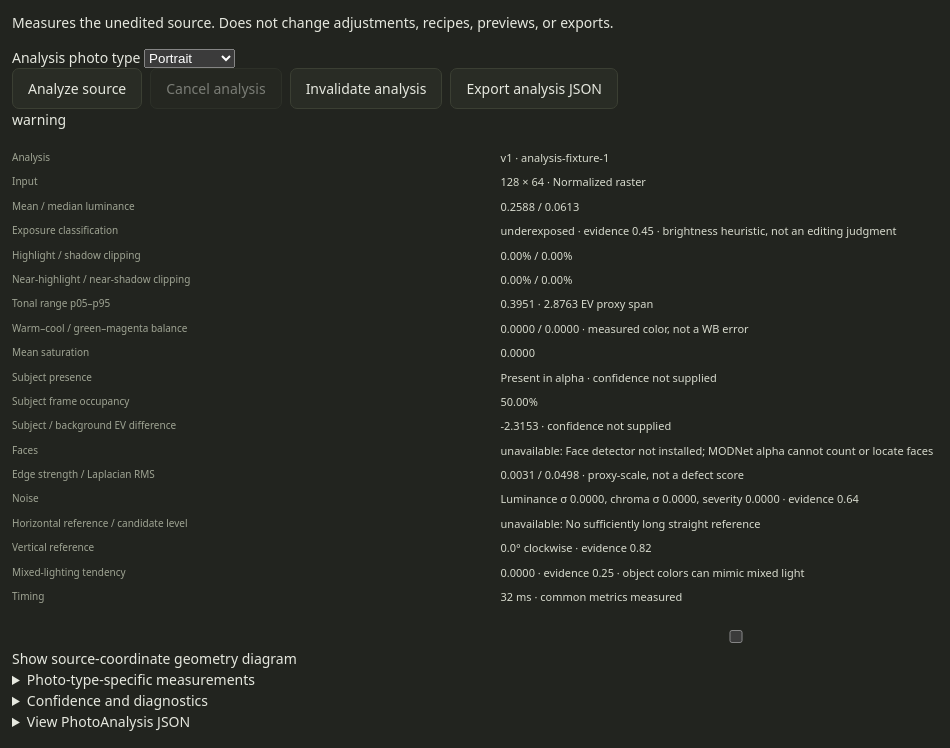
Scenario: invalidates disposable analyses and allows rerun
Click the button "Invalidate analysis".
click(366, 88)  # box left=290, top=68, right=442, bottom=109
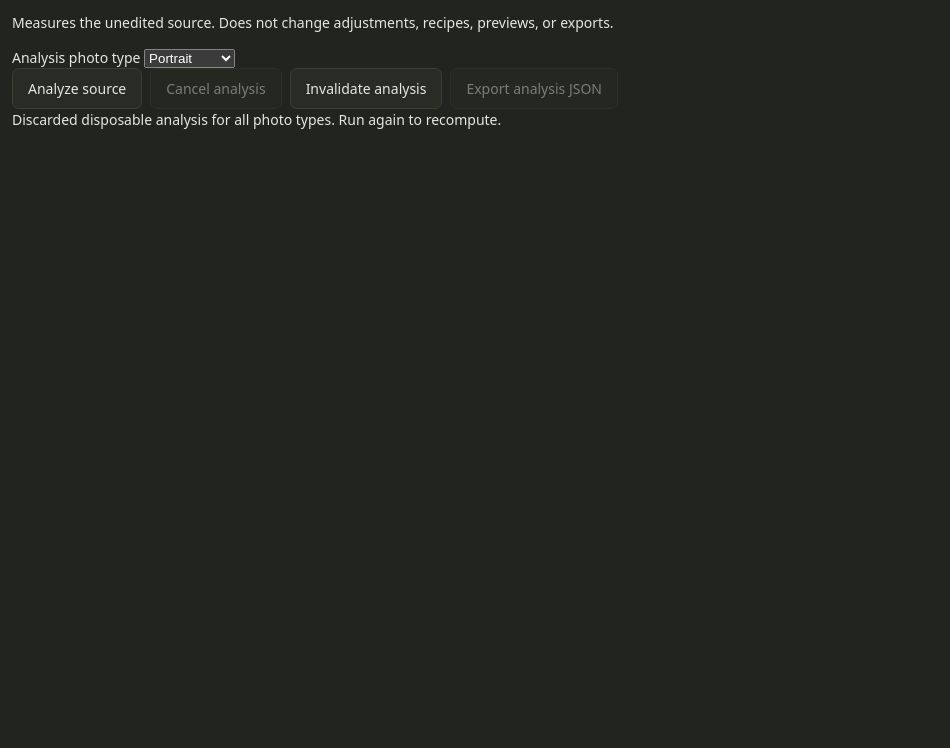
Expected: the button "Analyze source" is enabled, left=12, top=68, right=142, bottom=109
Now the text "Discarded disposable analysis for all photo types. Run again to recompute." is shown, box left=12, top=110, right=501, bottom=129
Now the button "Export analysis JSON" is disabled, box left=450, top=68, right=618, bottom=109
